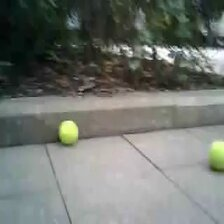tennis: (209, 140, 224, 169), (60, 121, 78, 143)
